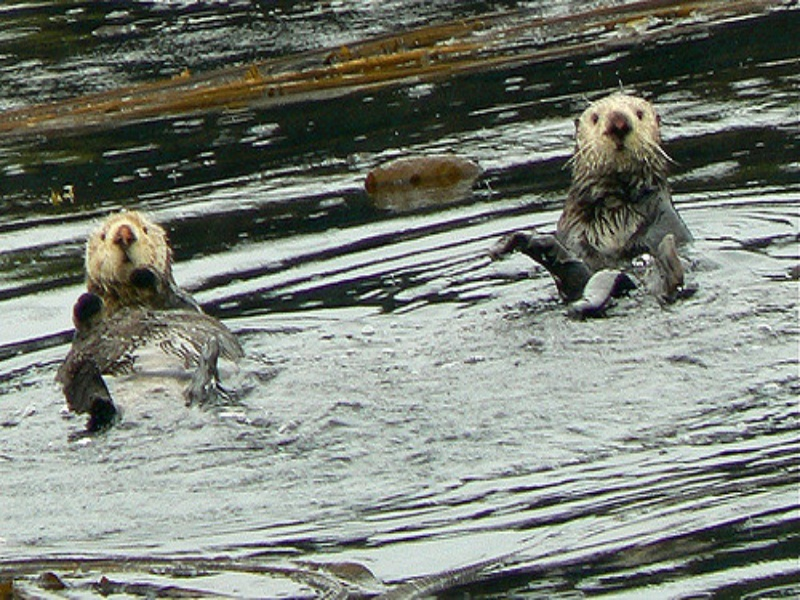minkish: (494, 85, 703, 337), (54, 199, 260, 432)
